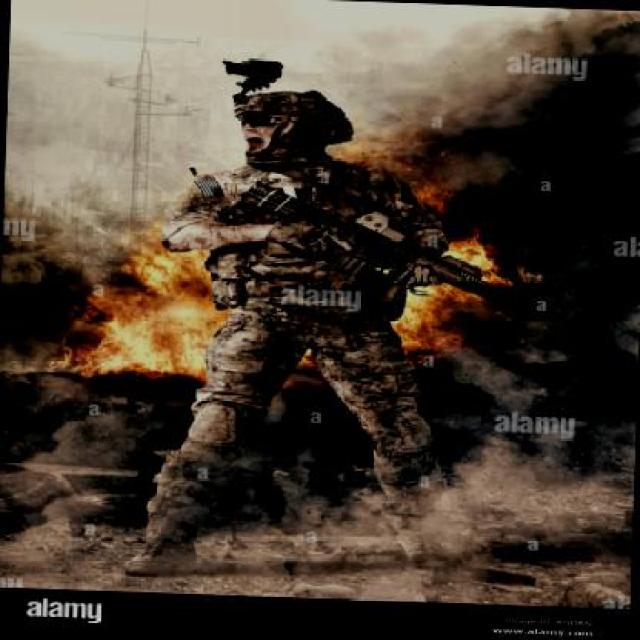MIL_Pax: (115, 79, 458, 590)
